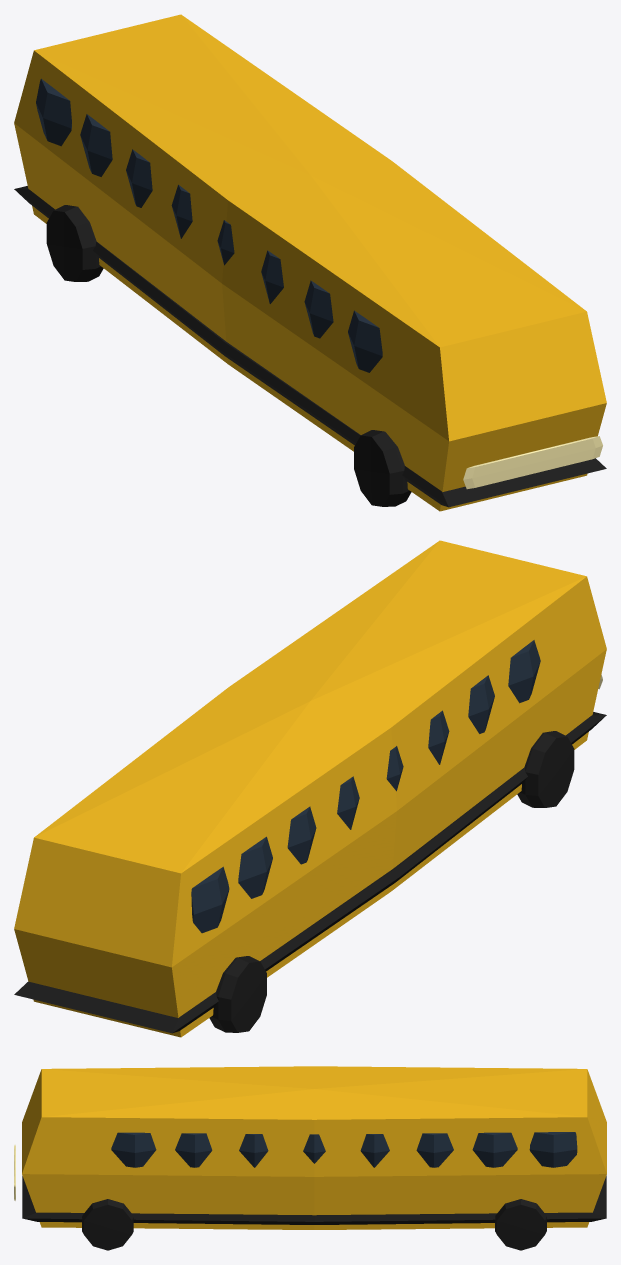
File: s-bus.glb
3 renders of one model, top to bottom at view 1: azimuth 30°, elevation 25°; view 2: azimuth 150°, elevation 25°; view 3: azimuth 270°, elevation 25°, orthographic. The views are drawn at different scales.
Parts seen in each view (by area): view 1: p; view 2: p; view 3: p.
Part boxes in pixels (box(x1,y1,x2,y2)): p: box(14, 14, 606, 511); p: box(14, 540, 606, 1037); p: box(14, 1066, 606, 1250).
Bounding box in the file's own units: 2.66 × 2.7 × 10.91.
